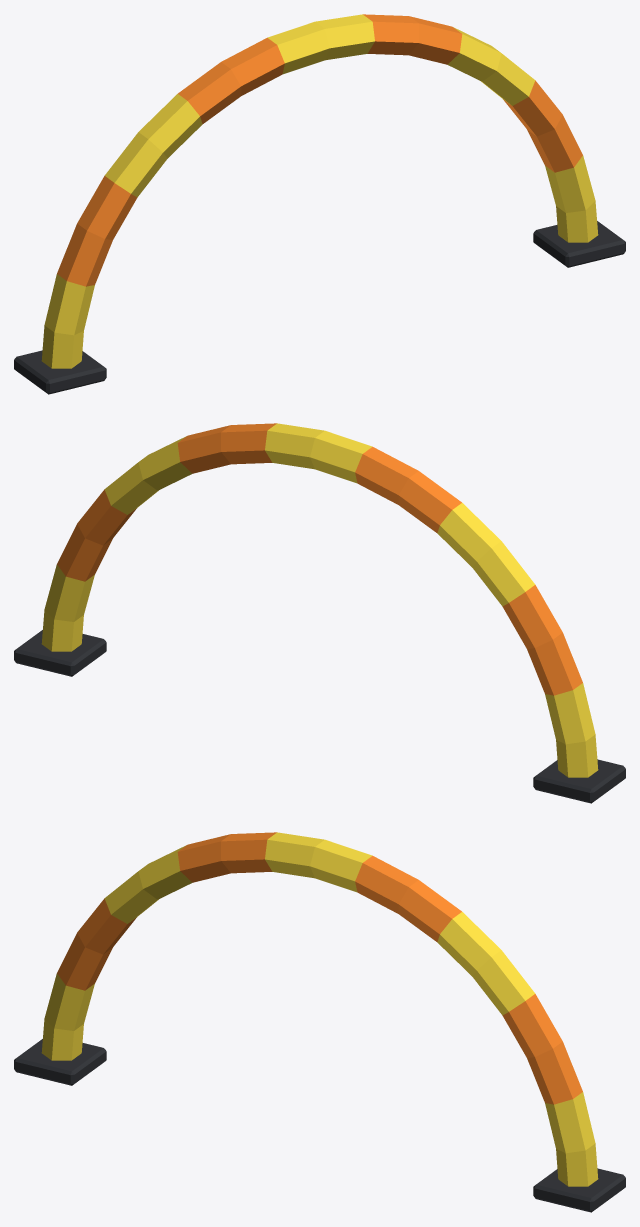
Rendered from prop_checkpoint_ring.glb.
The picture shows the model from 3 angles, top to bottom: view 1: azimuth 30°, elevation 25°; view 2: azimuth 150°, elevation 25°; view 3: azimuth 330°, elevation 25°; orthographic projection.
Visible parts, largest first — view 1: prop_checkpoint_ring__mesh; view 2: prop_checkpoint_ring__mesh; view 3: prop_checkpoint_ring__mesh.
Part boxes in pixels (x1,y1,x2,y2): prop_checkpoint_ring__mesh: (14,14,625,394); prop_checkpoint_ring__mesh: (14,423,625,803); prop_checkpoint_ring__mesh: (14,832,625,1212).
Bounding box in the file's own units: 6.7 × 3.24 × 0.7.
1 material, 1 textured.
